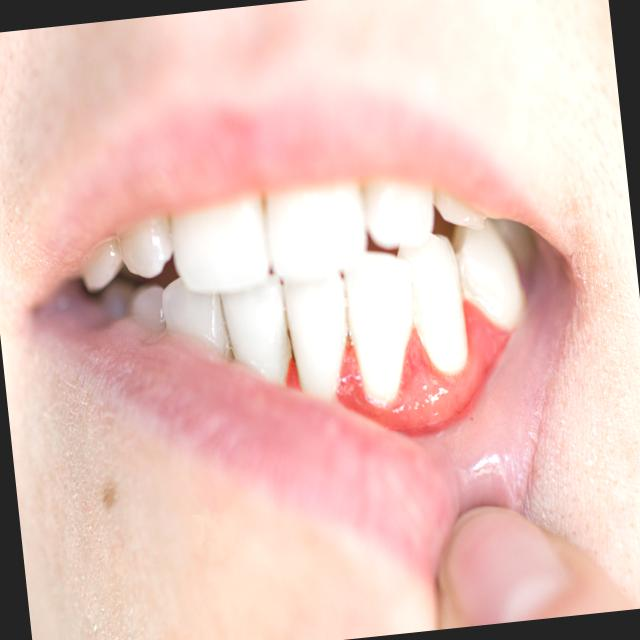abscess: (313, 288, 522, 455)
